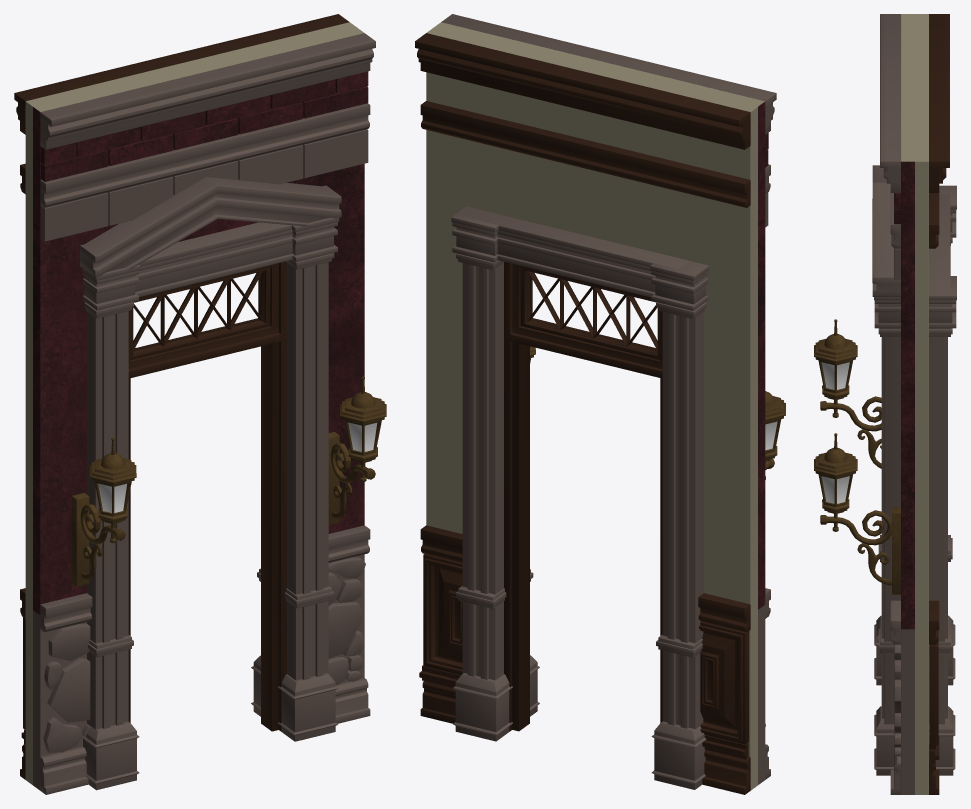
File: SK5 DOOR 1.fbx
3 views of the same model, side by side, from view 1: azimuth 30°, elevation 25°; view 2: azimuth 150°, elevation 25°; view 3: azimuth 270°, elevation 25° (orthographic). The views are drawn at different scales.
Parts seen in each view (by area): view 1: SK5 DOOR 1; view 2: SK5 DOOR 1; view 3: SK5 DOOR 1.
Part boxes in pixels (bbox=[...]): SK5 DOOR 1: bbox=[14, 14, 386, 794]; SK5 DOOR 1: bbox=[415, 14, 785, 794]; SK5 DOOR 1: bbox=[814, 14, 956, 794].
Size of the model in its own units: 201 by 400 by 81.81.
